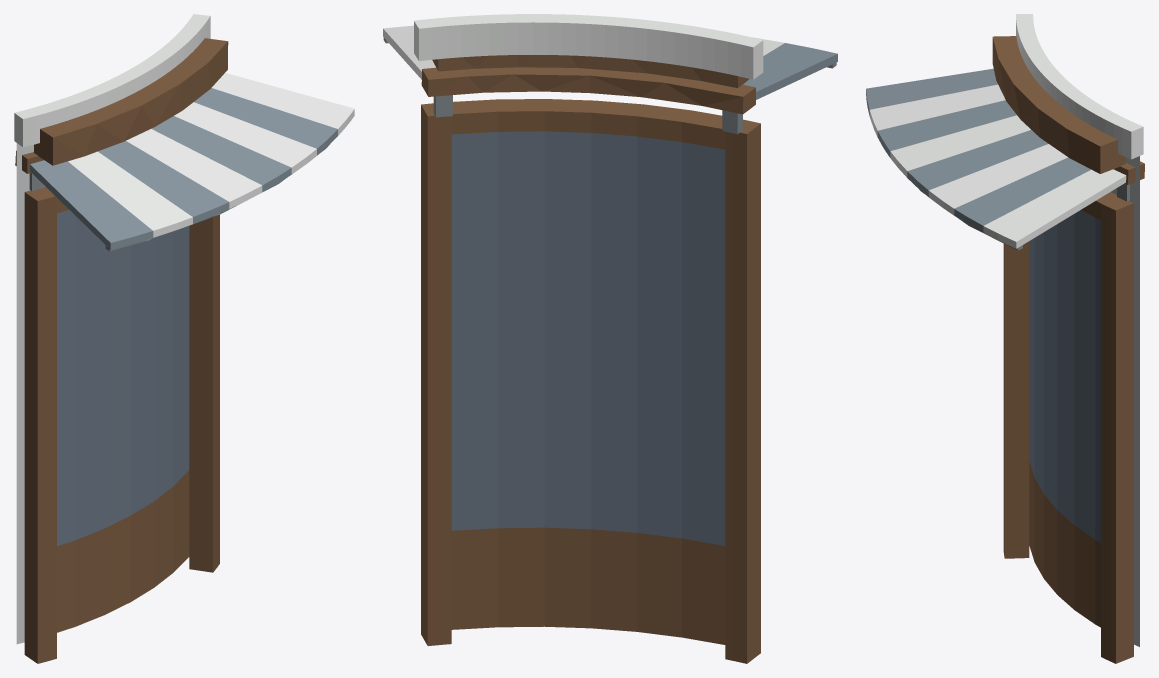
The model's file is ArcShopfront_R2_A45.glb.
The picture shows the model from 3 angles, left to right: view 1: azimuth 30°, elevation 25°; view 2: azimuth 150°, elevation 25°; view 3: azimuth 270°, elevation 25°; orthographic projection. The views are drawn at different scales.
Visible parts, largest first — view 1: PBK_Arc_PBK_glass.002, PBK_Continuous_Frame_Modern_Shopfront.003, PBK_Arc_PBK_glass.007_Frame_Base20.001, PBK_Arc_PBK_signboard.006, PBK_floor_band.048, PBK_Modern_ArcShopfront_R2_A45_Exterior_Surface.001, PBK_Arc_PBK_awning_stripe.006, PBK_Arc_PBK_awning_stripe.007, PBK_Arc_PBK_awning_stripe.011, PBK_Arc_PBK_awning_stripe.012, PBK_Arc_PBK_awning_stripe.013, PBK_Arc_PBK_awning_stripe.014 (+2 smaller); view 2: PBK_Arc_PBK_glass.002, PBK_Continuous_Frame_Modern_Shopfront.003, PBK_Arc_PBK_glass.007_Frame_Base20.001, PBK_floor_band.048, PBK_Arc_PBK_awning_wall_mount.001, PBK_Arc_PBK_signboard.006, PBK_Arc_PBK_awning_stripe.006, PBK_Arc_PBK_awning_stripe.022; view 3: PBK_Continuous_Frame_Modern_Shopfront.003, PBK_Arc_PBK_glass.002, PBK_Arc_PBK_signboard.006, PBK_Arc_PBK_glass.007_Frame_Base20.001, PBK_floor_band.048, PBK_Arc_PBK_awning_stripe.022, PBK_Arc_PBK_awning_stripe.015, PBK_Arc_PBK_awning_stripe.014, PBK_Arc_PBK_awning_stripe.013, PBK_Modern_ArcShopfront_R2_A45_Exterior_Surface.001, PBK_Arc_PBK_awning_stripe.012, PBK_Arc_PBK_awning_stripe.011 (+2 smaller).
Part boxes in pixels (<box>): PBK_Arc_PBK_glass.002: <box>57,210,189,546</box>; PBK_Continuous_Frame_Modern_Shopfront.003: <box>24,186,219,663</box>; PBK_Arc_PBK_glass.007_Frame_Base20.001: <box>57,470,189,632</box>; PBK_Arc_PBK_signboard.006: <box>34,38,228,165</box>; PBK_floor_band.048: <box>14,14,210,147</box>; PBK_Modern_ArcShopfront_R2_A45_Exterior_Surface.001: <box>16,143,33,644</box>; PBK_Arc_PBK_awning_stripe.006: <box>30,160,153,249</box>; PBK_Arc_PBK_awning_stripe.007: <box>68,151,192,237</box>; PBK_Arc_PBK_awning_stripe.011: <box>98,141,229,223</box>; PBK_Arc_PBK_awning_stripe.012: <box>126,129,262,208</box>; PBK_Arc_PBK_awning_stripe.013: <box>151,116,291,192</box>; PBK_Arc_PBK_awning_stripe.014: <box>174,102,316,174</box>; PBK_Arc_PBK_glass.002: <box>451,131,725,545</box>; PBK_Continuous_Frame_Modern_Shopfront.003: <box>421,99,760,663</box>; PBK_Arc_PBK_glass.007_Frame_Base20.001: <box>451,527,725,644</box>; PBK_floor_band.048: <box>414,14,763,79</box>; PBK_Arc_PBK_awning_wall_mount.001: <box>421,67,755,114</box>; PBK_Arc_PBK_signboard.006: <box>432,55,749,87</box>; PBK_Arc_PBK_awning_stripe.006: <box>743,43,837,99</box>; PBK_Arc_PBK_awning_stripe.022: <box>383,25,435,79</box>; PBK_Continuous_Frame_Modern_Shopfront.003: <box>1003,192,1133,663</box>; PBK_Arc_PBK_glass.002: <box>1029,210,1100,542</box>; PBK_Arc_PBK_signboard.006: <box>992,36,1125,173</box>; PBK_Arc_PBK_glass.007_Frame_Base20.001: <box>1029,461,1100,627</box>; PBK_floor_band.048: <box>1016,14,1143,159</box>; PBK_Arc_PBK_awning_stripe.022: <box>983,169,1126,248</box>; PBK_Arc_PBK_awning_stripe.015: <box>954,157,1090,232</box>; PBK_Arc_PBK_awning_stripe.014: <box>928,144,1067,215</box>; PBK_Arc_PBK_awning_stripe.013: <box>907,130,1048,196</box>; PBK_Modern_ArcShopfront_R2_A45_Exterior_Surface.001: <box>1111,156,1139,646</box>; PBK_Arc_PBK_awning_stripe.012: <box>890,115,1030,177</box>; PBK_Arc_PBK_awning_stripe.011: <box>877,100,1016,157</box>.
Size of the model in its own units: 1.97 by 3.07 by 1.46.
